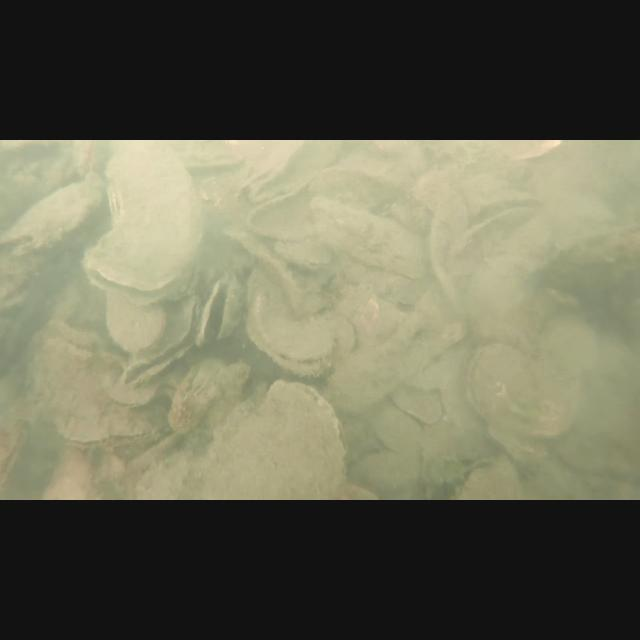Oyster-Closed: (203, 378, 349, 499), (548, 220, 640, 352), (246, 165, 404, 241), (464, 342, 578, 436), (309, 194, 429, 276), (469, 214, 545, 328), (448, 206, 546, 274), (425, 184, 469, 312), (104, 287, 164, 351), (108, 366, 162, 408)
Oyster-Open: (82, 140, 200, 302), (242, 267, 334, 378), (0, 176, 104, 257), (120, 292, 202, 386), (68, 401, 156, 453), (168, 353, 225, 431), (444, 456, 522, 500), (196, 271, 238, 347), (0, 402, 28, 500), (0, 270, 36, 312)
